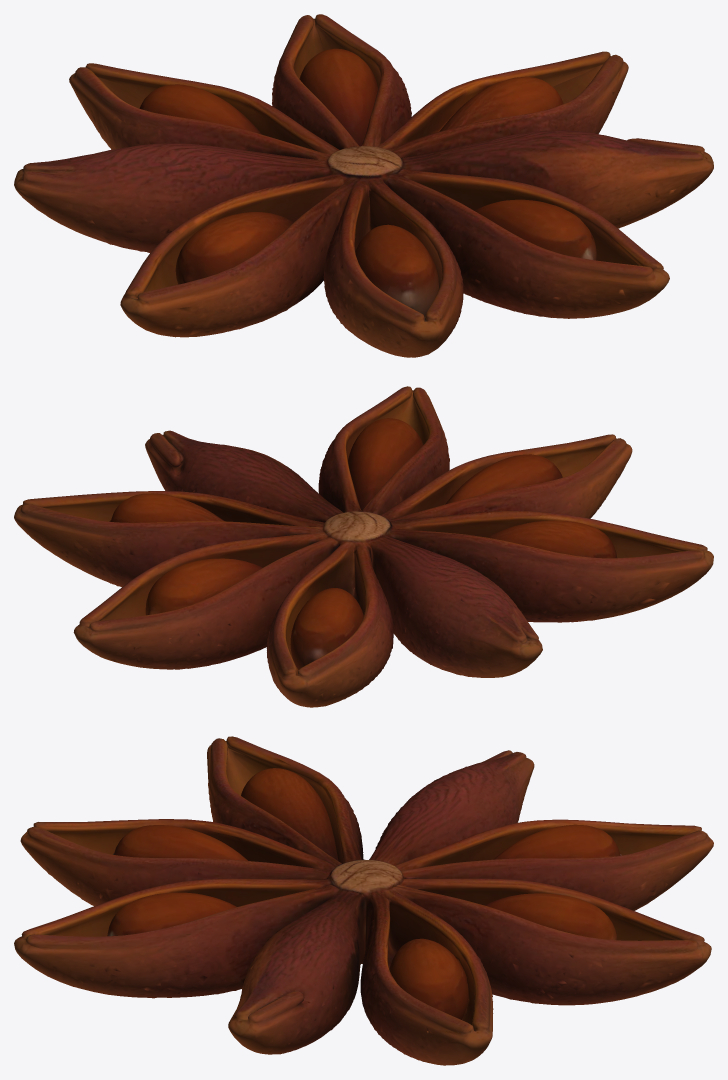
File: bajiao.glb
The picture shows the model from 3 angles, top to bottom: view 1: azimuth 30°, elevation 25°; view 2: azimuth 150°, elevation 25°; view 3: azimuth 270°, elevation 25°; orthographic projection. The views are drawn at different scales.
Visible parts, largest first — view 1: material; view 2: material; view 3: material.
Boxes of the visible parts, x1,y1,x2,y2 form: material: [14, 14, 713, 357]; material: [14, 386, 713, 707]; material: [14, 736, 713, 1065].
Bounding box in the file's own units: 1.12 × 0.1881 × 1.11.
1 material, 1 textured.
